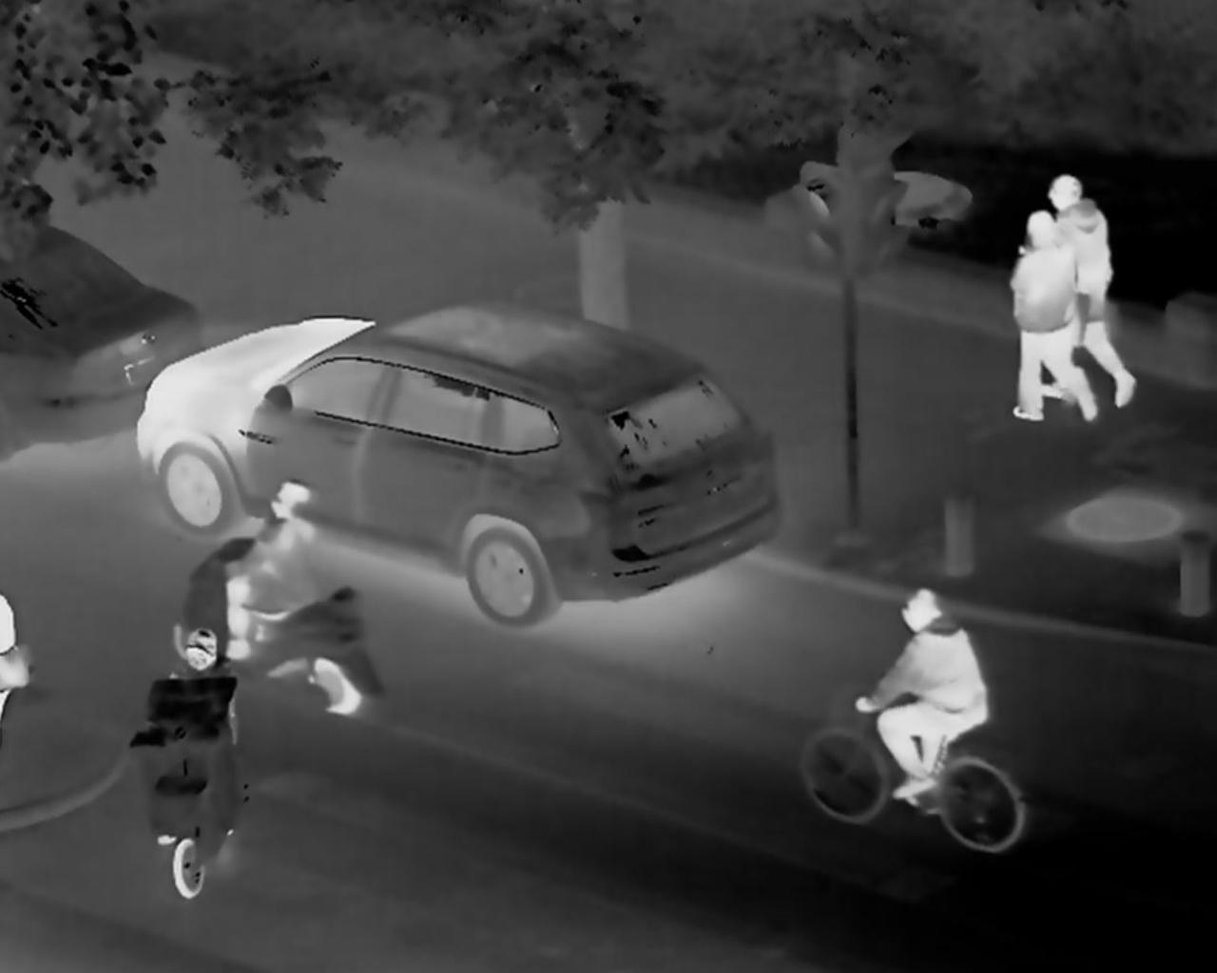person: (875, 582, 999, 785), (991, 187, 1077, 385), (241, 478, 326, 624), (1080, 172, 1126, 396), (176, 613, 223, 696)
